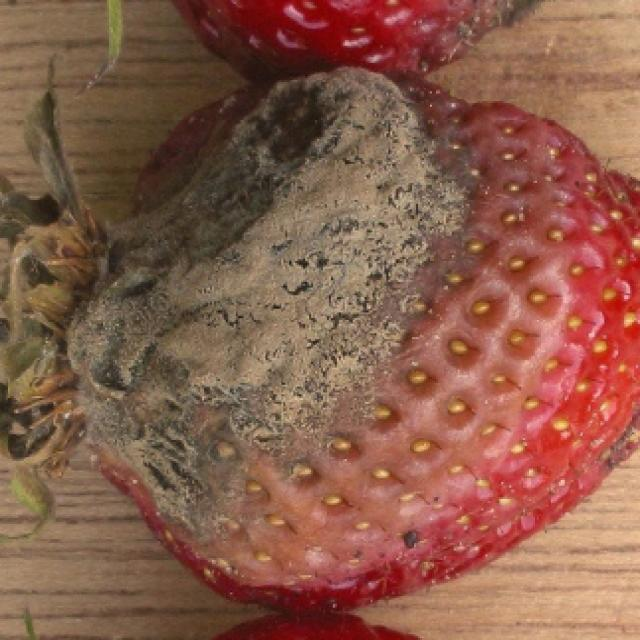Gray Mold: (9, 66, 640, 596), (378, 0, 552, 77)
